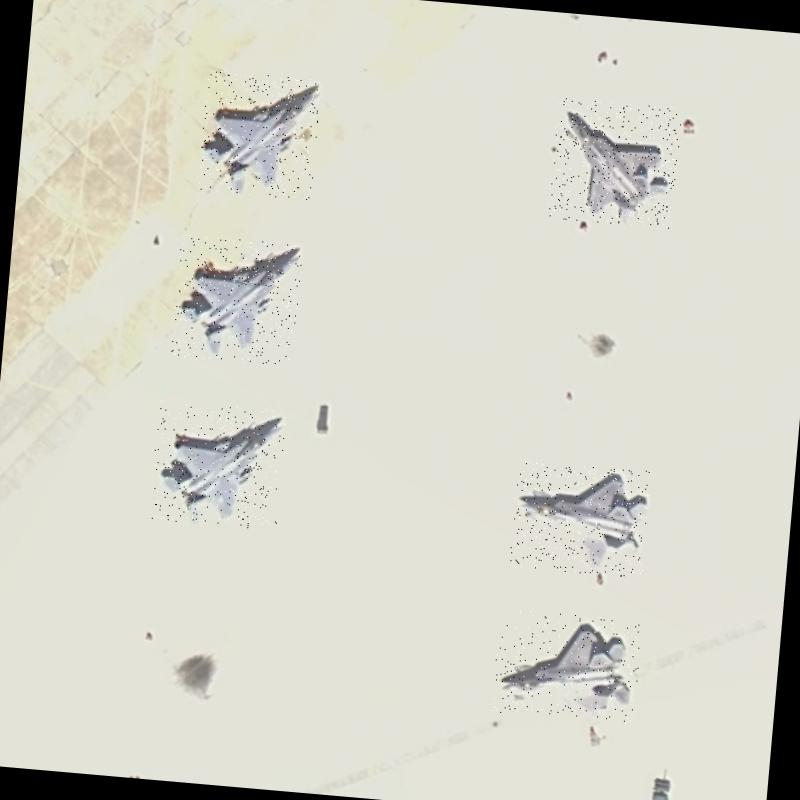A13: (148, 400, 286, 531), (171, 234, 303, 368), (198, 70, 322, 202)
A15: (491, 608, 643, 724), (548, 98, 682, 229), (509, 460, 653, 578)
